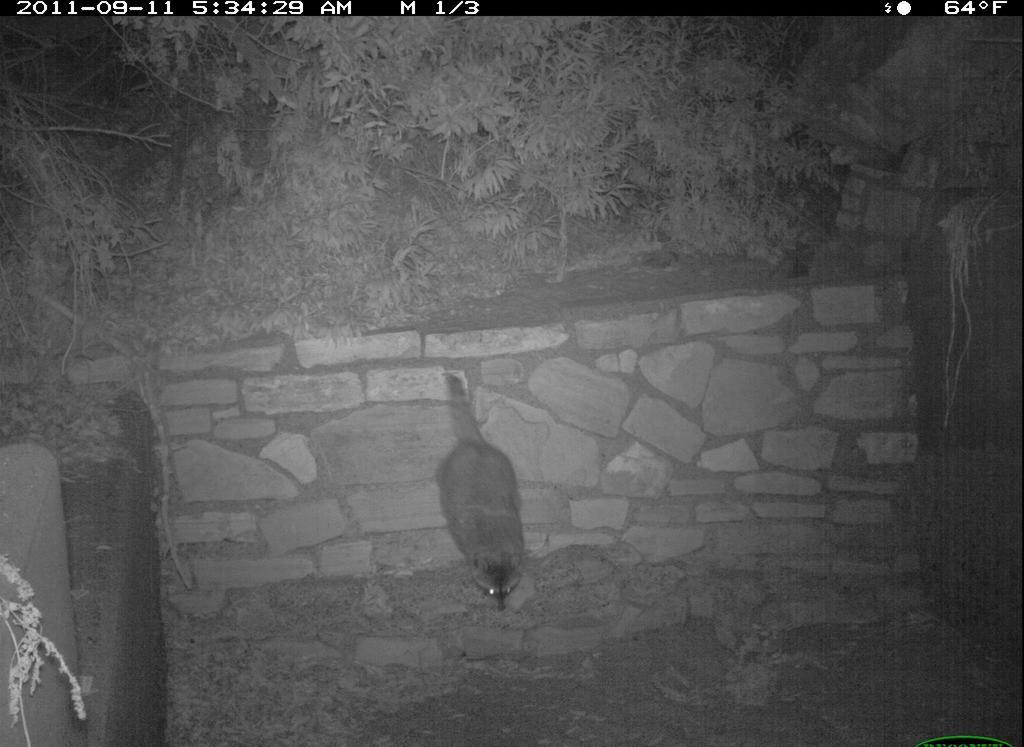raccoon: (404, 346, 532, 638)
